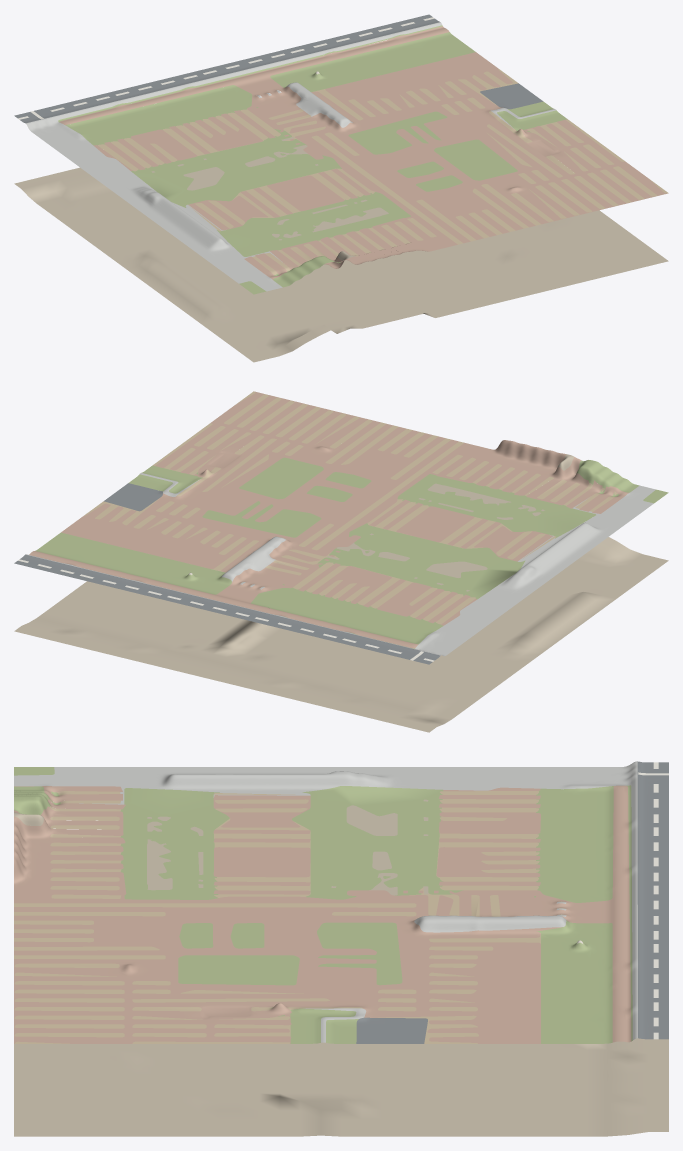
3 views of the same model, one above another, from view 1: azimuth 30°, elevation 25°; view 2: azimuth 150°, elevation 25°; view 3: azimuth 270°, elevation 25° (orthographic). The views are drawn at different scales.
Parts seen in each view (by area): view 1: s_-5_-3__brick_paving, s_-5_-3__soil, s_-5_-3__grass, s_-5_-3__timber_deck, s_-5_-3__stone_paving, s_-5_-3__asphalt, s_-5_-3__white_marking; view 2: s_-5_-3__brick_paving, s_-5_-3__soil, s_-5_-3__grass, s_-5_-3__timber_deck, s_-5_-3__stone_paving, s_-5_-3__asphalt, s_-5_-3__white_marking; view 3: s_-5_-3__brick_paving, s_-5_-3__soil, s_-5_-3__grass, s_-5_-3__timber_deck, s_-5_-3__stone_paving, s_-5_-3__asphalt, s_-5_-3__white_marking.
Part boxes in pixels (bbox=[...]): s_-5_-3__brick_paving: bbox=[60, 26, 668, 280]; s_-5_-3__soil: bbox=[14, 137, 668, 362]; s_-5_-3__grass: bbox=[58, 25, 567, 294]; s_-5_-3__timber_deck: bbox=[98, 69, 667, 274]; s_-5_-3__stone_paving: bbox=[26, 22, 556, 291]; s_-5_-3__asphalt: bbox=[14, 14, 543, 123]; s_-5_-3__white_marking: bbox=[18, 17, 434, 119]; s_-5_-3__brick_paving: bbox=[29, 391, 628, 648]; s_-5_-3__soil: bbox=[14, 454, 668, 732]; s_-5_-3__grass: bbox=[35, 457, 668, 648]; s_-5_-3__timber_deck: bbox=[84, 391, 617, 624]; s_-5_-3__stone_paving: bbox=[25, 473, 655, 656]; s_-5_-3__asphalt: bbox=[14, 483, 440, 664]; s_-5_-3__white_marking: bbox=[18, 559, 434, 661]; s_-5_-3__brick_paving: bbox=[14, 785, 631, 1043]; s_-5_-3__soil: bbox=[14, 799, 668, 1136]; s_-5_-3__grass: bbox=[14, 767, 632, 1043]; s_-5_-3__timber_deck: bbox=[14, 791, 540, 1043]; s_-5_-3__stone_paving: bbox=[14, 761, 637, 1042]; s_-5_-3__asphalt: bbox=[356, 761, 668, 1043]; s_-5_-3__white_marking: bbox=[638, 762, 668, 1039].
Bounding box in the file's own units: 128 × 24.53 × 128.
